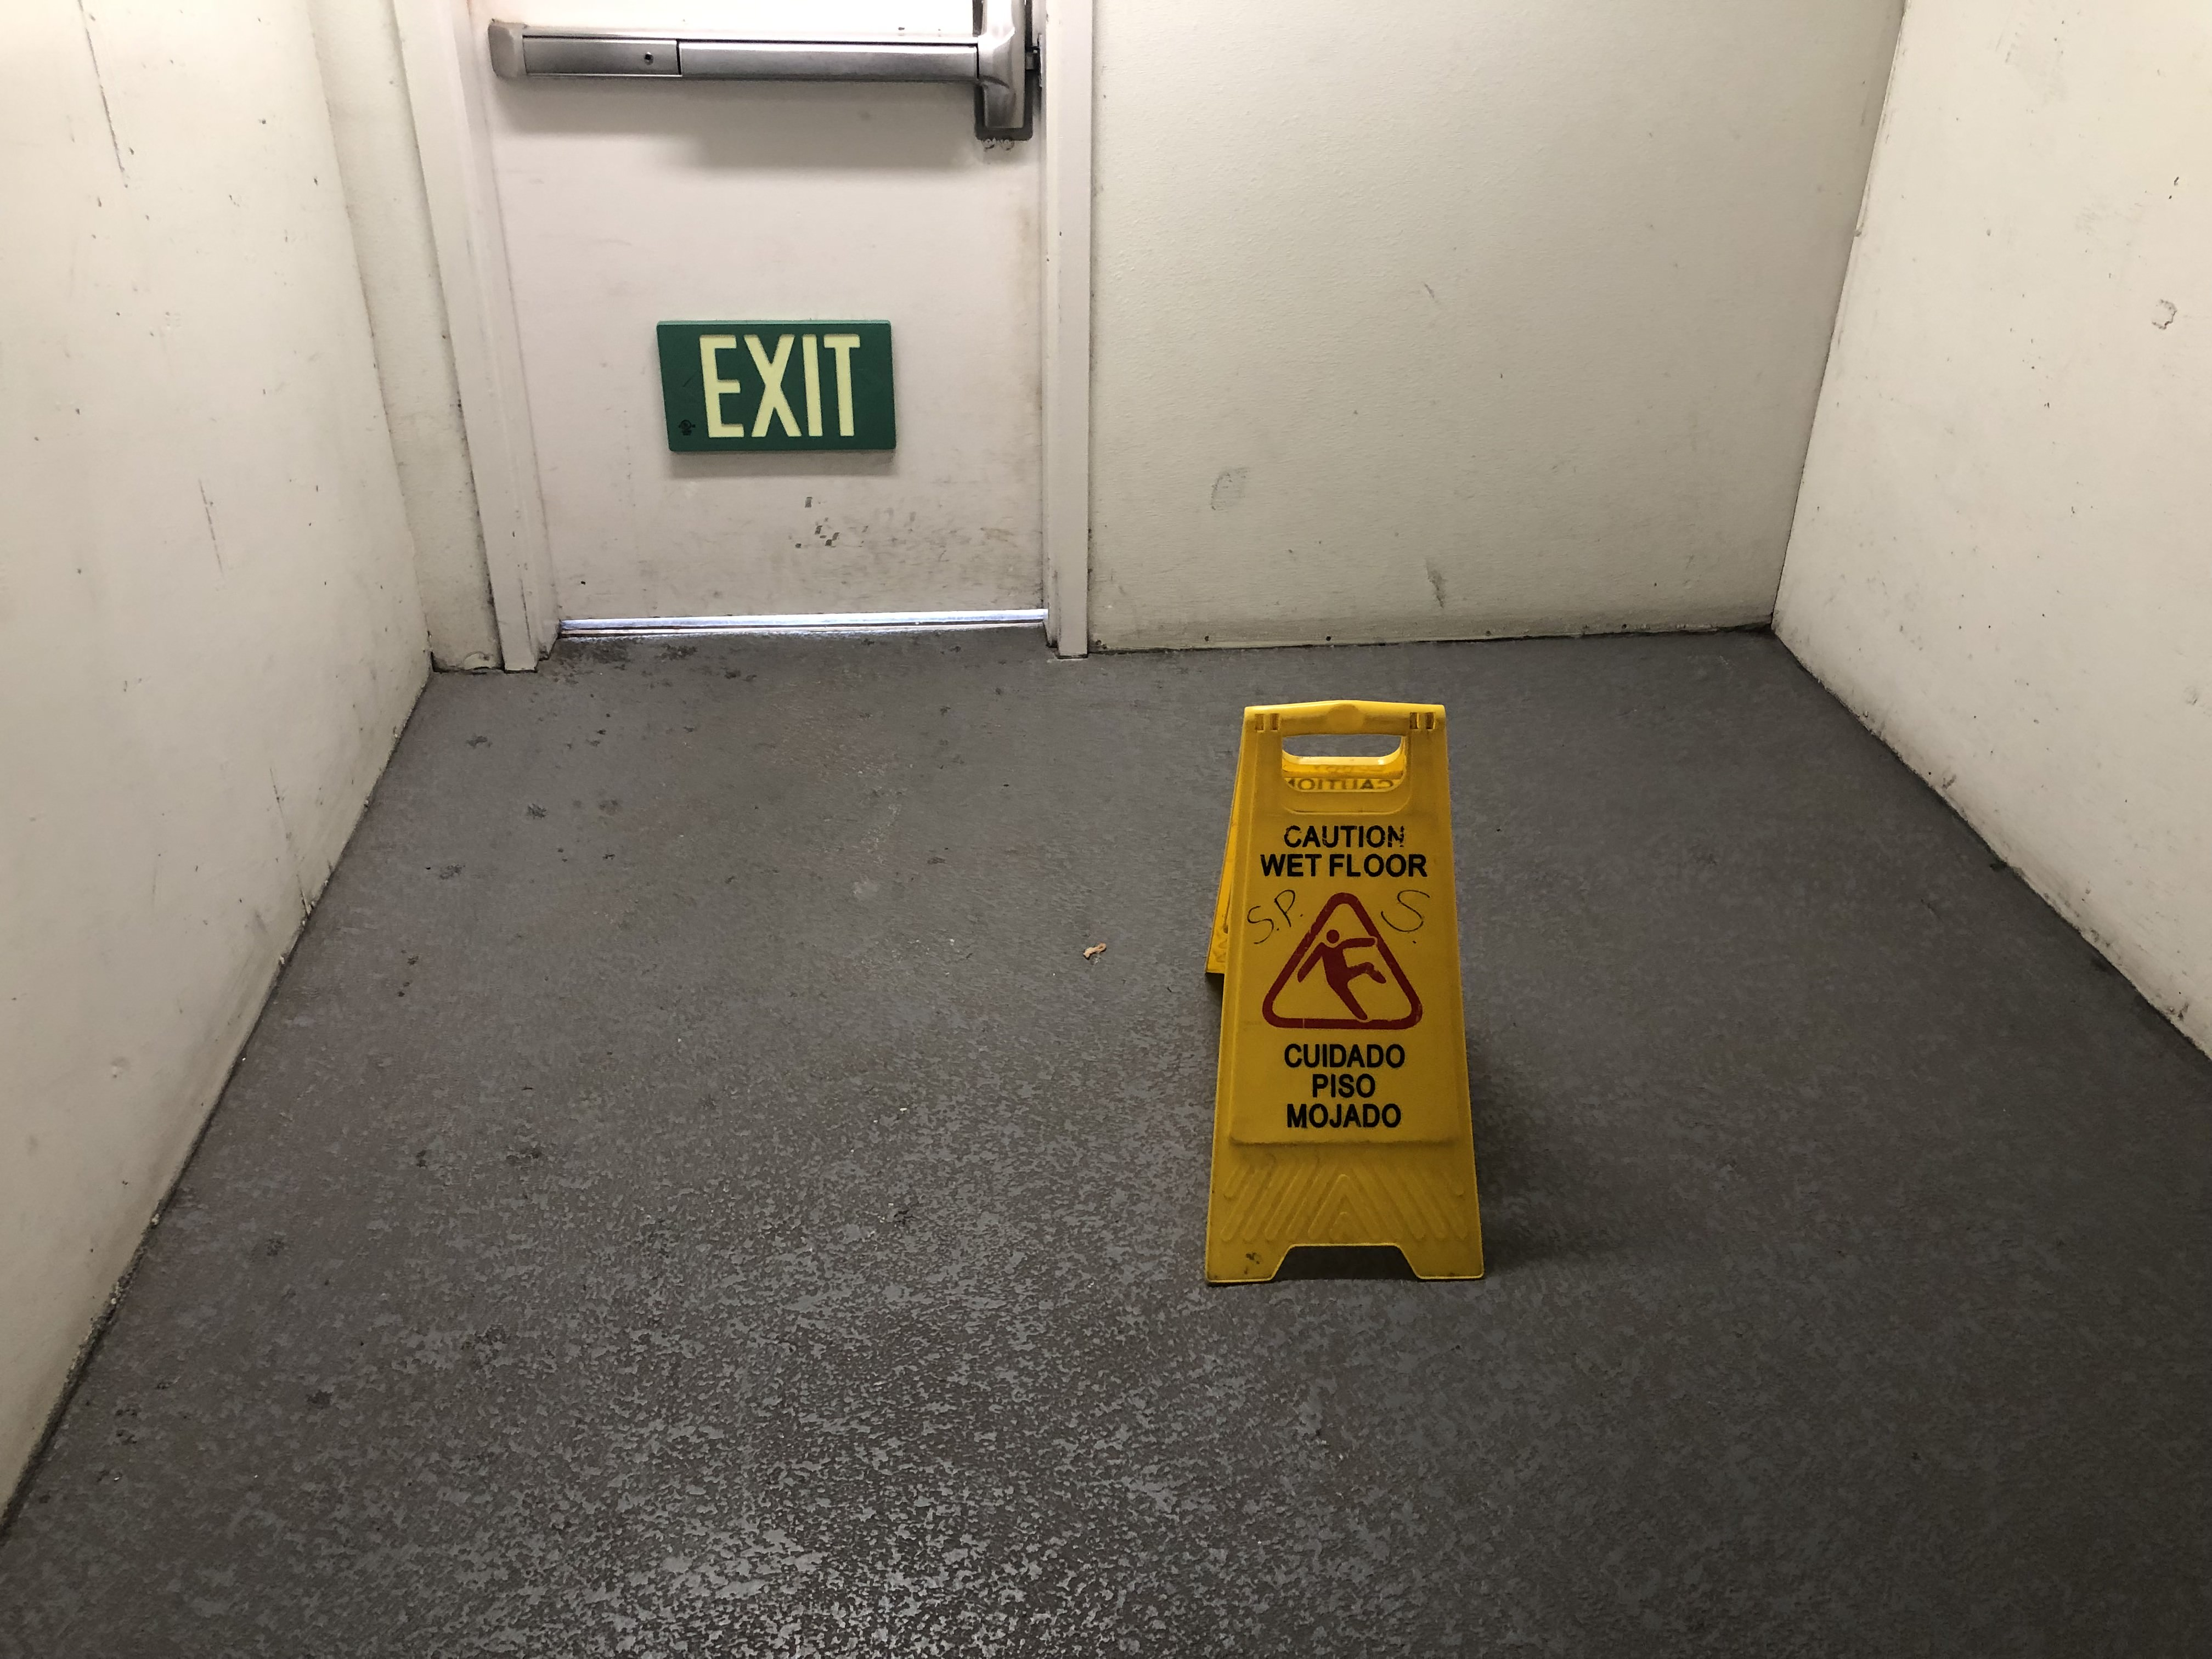Obstacle: (1174, 694, 1515, 1302)
